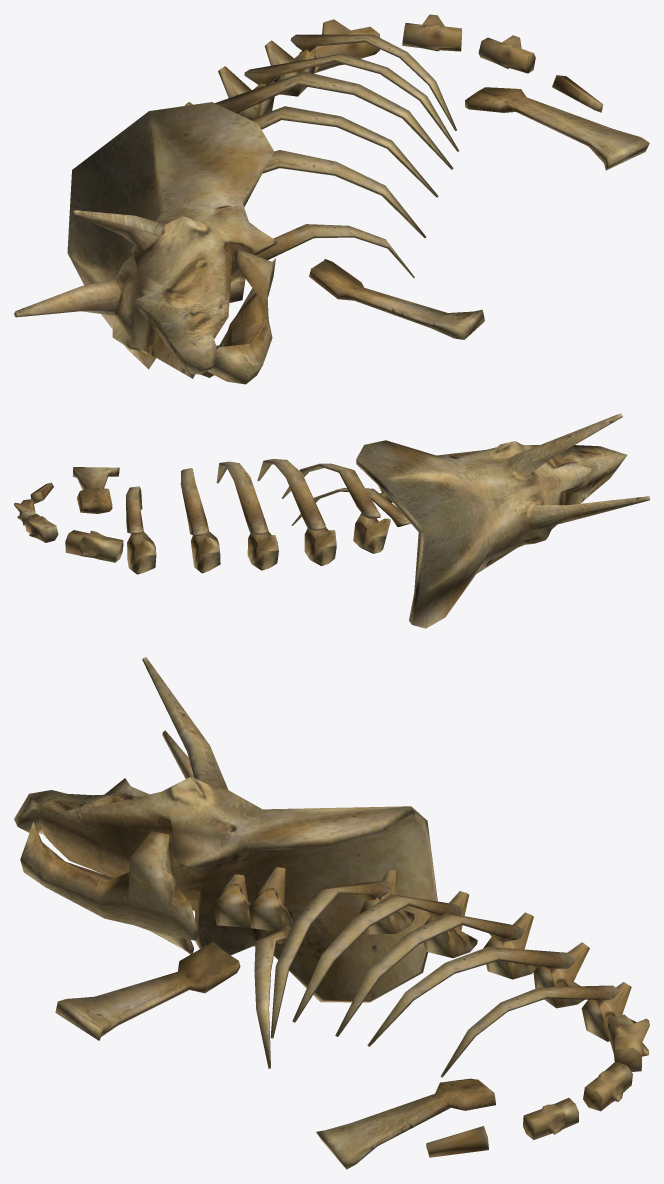
The model's file is Triceratops_Bones-1.fbx.
3 renders of one model, top to bottom at view 1: azimuth 30°, elevation 25°; view 2: azimuth 150°, elevation 25°; view 3: azimuth 270°, elevation 25°, orthographic. The views are drawn at different scales.
Visible parts, largest first — view 1: Triceratops_Bones-1; view 2: Triceratops_Bones-1; view 3: Triceratops_Bones-1.
Boxes of the visible parts, left/top/right/bottom form: Triceratops_Bones-1: left=14, top=14, right=649, bottom=384; Triceratops_Bones-1: left=14, top=413, right=649, bottom=628; Triceratops_Bones-1: left=14, top=657, right=649, bottom=1169.
Bounding box in the file's own units: 375 × 130 × 281.
